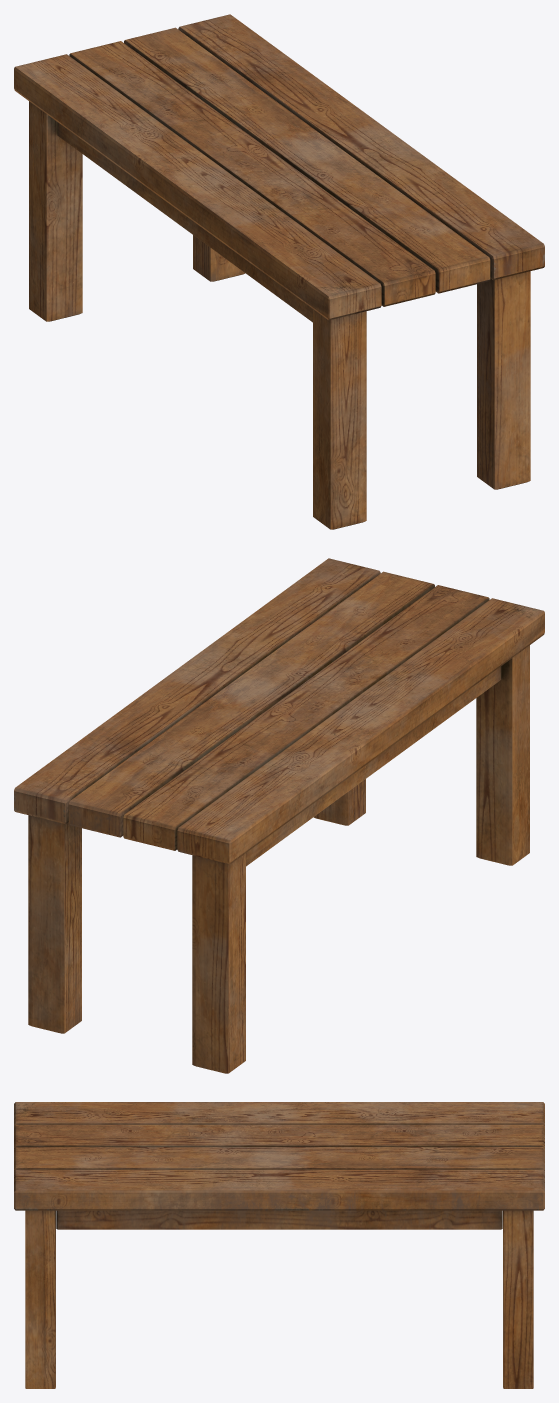
The model's file is Table.fbx.
3 views of the same model, one above another, from view 1: azimuth 30°, elevation 25°; view 2: azimuth 150°, elevation 25°; view 3: azimuth 270°, elevation 25° (orthographic). The views are drawn at different scales.
Visible parts, largest first — view 1: Table; view 2: Table; view 3: Table.
Boxes of the visible parts, x1,y1,x2,y2 form: Table: [14, 14, 544, 529]; Table: [14, 558, 544, 1073]; Table: [14, 1102, 544, 1388].
Bounding box in the file's own units: 7.94 × 8.4 × 20.
1 material, 1 textured.
